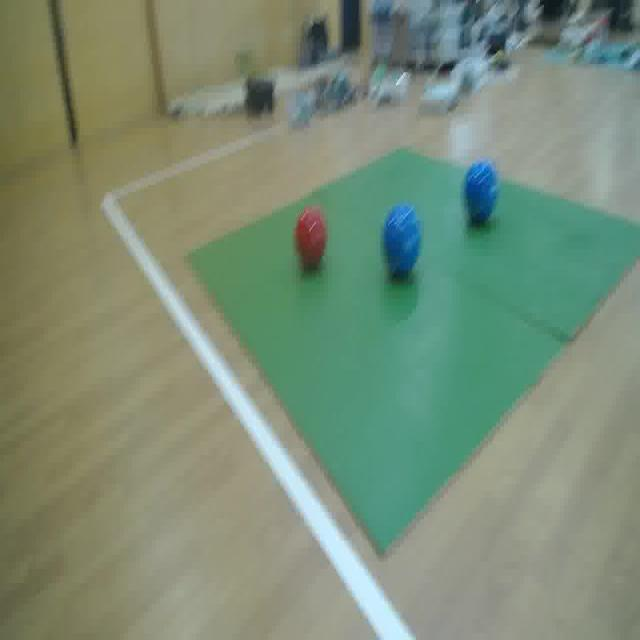blue_ball: (379, 203, 424, 280), (462, 158, 499, 227)
red_ball: (294, 203, 328, 266)
